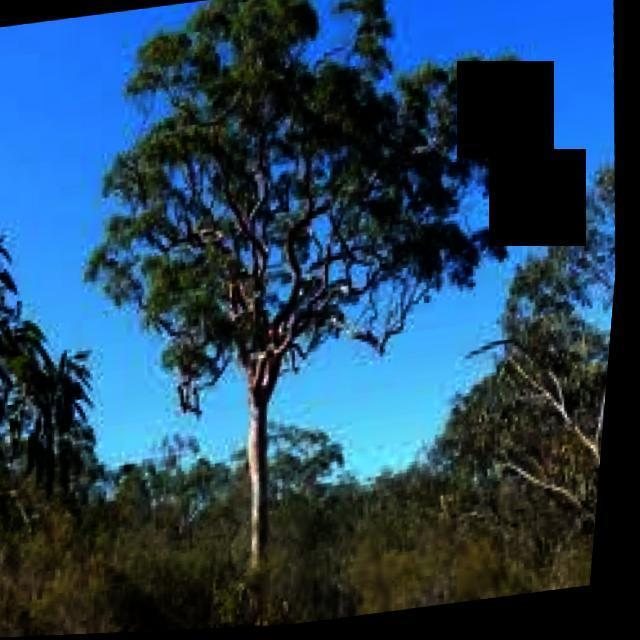tree: (48, 0, 571, 595), (441, 180, 627, 580), (0, 176, 121, 557)
